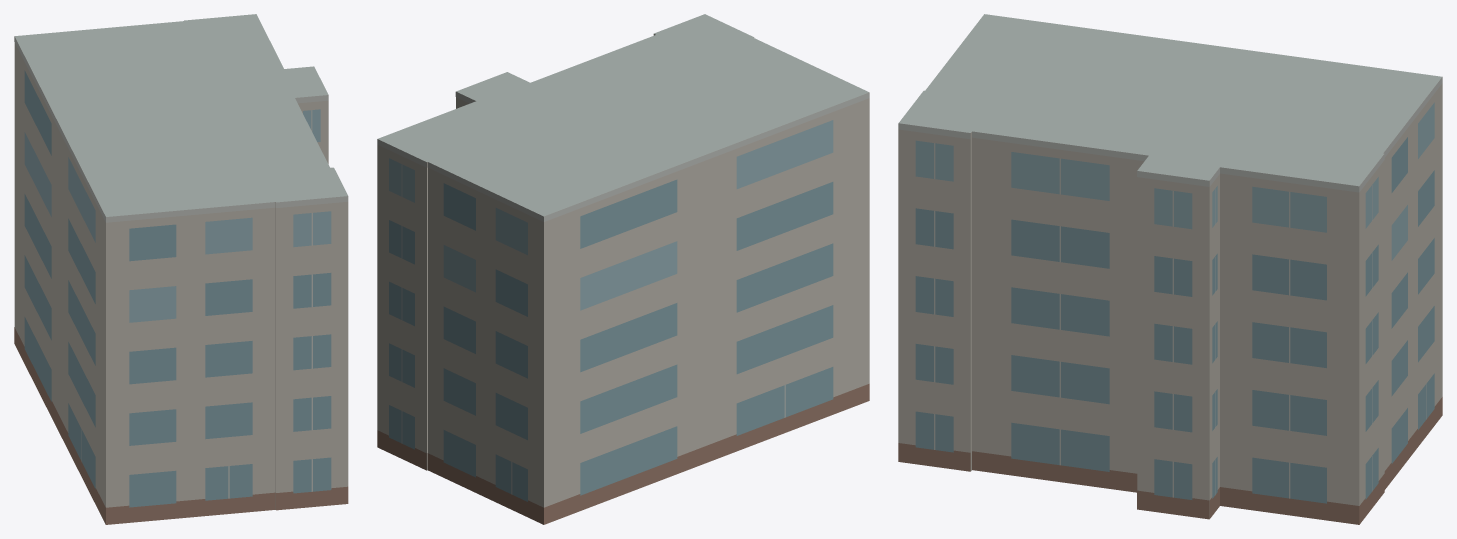
Rendered from survey-upis-32635574.glb.
The picture shows the model from 3 angles, left to right: view 1: azimuth 30°, elevation 25°; view 2: azimuth 150°, elevation 25°; view 3: azimuth 270°, elevation 25°; orthographic projection. The views are drawn at different scales.
Visible parts, largest first — view 1: survey-upis-32635574.tmp; view 2: survey-upis-32635574.tmp; view 3: survey-upis-32635574.tmp.
Part boxes in pixels (<box>): survey-upis-32635574.tmp: <box>14,14,348,524</box>; survey-upis-32635574.tmp: <box>377,14,869,524</box>; survey-upis-32635574.tmp: <box>898,14,1442,524</box>.
Bounding box in the file's own units: 14.52 × 13.3 × 19.38.
